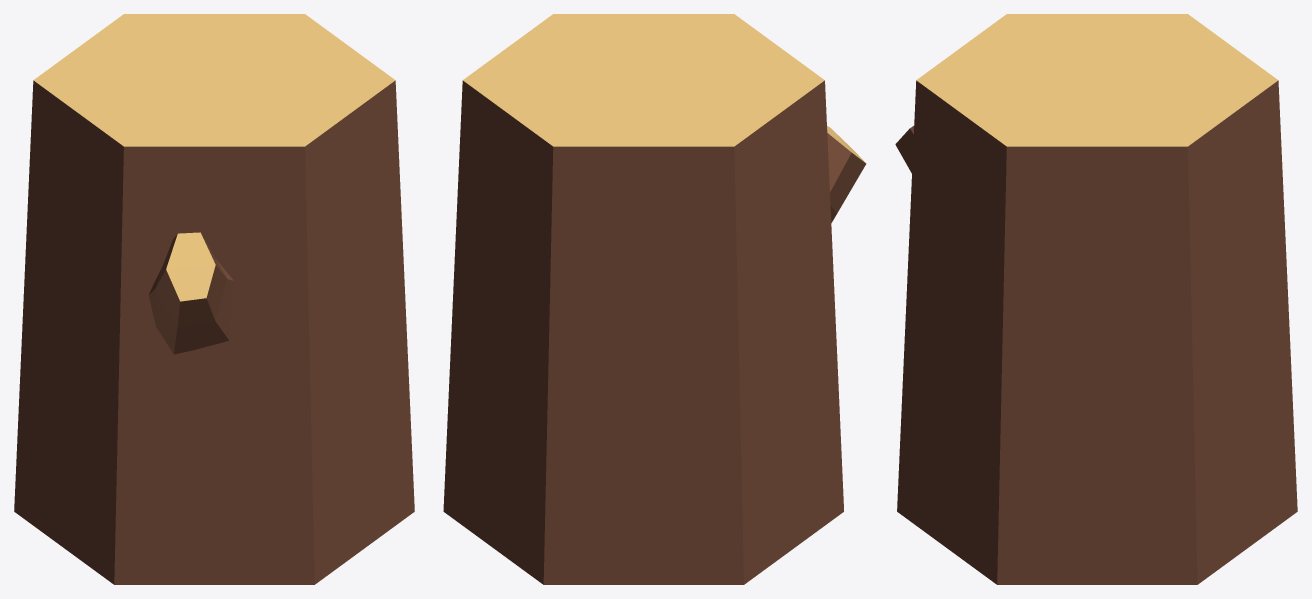
Rendered from Log2.fbx.
3 views of the same model, side by side, from view 1: azimuth 30°, elevation 25°; view 2: azimuth 150°, elevation 25°; view 3: azimuth 270°, elevation 25° (orthographic).
Parts seen in each view (by area): view 1: Log2; view 2: Log2; view 3: Log2.
Boxes of the visible parts, x1=… form: Log2: x1=14, y1=14, x2=414, y2=584; Log2: x1=443, y1=14, x2=866, y2=584; Log2: x1=895, y1=14, x2=1297, y2=584.
Bounding box in the file's own units: 167 × 229 × 193.
